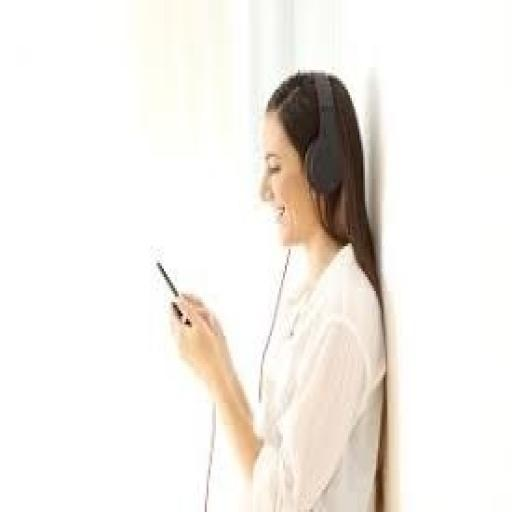listening_to_music: (166, 67, 389, 509)
